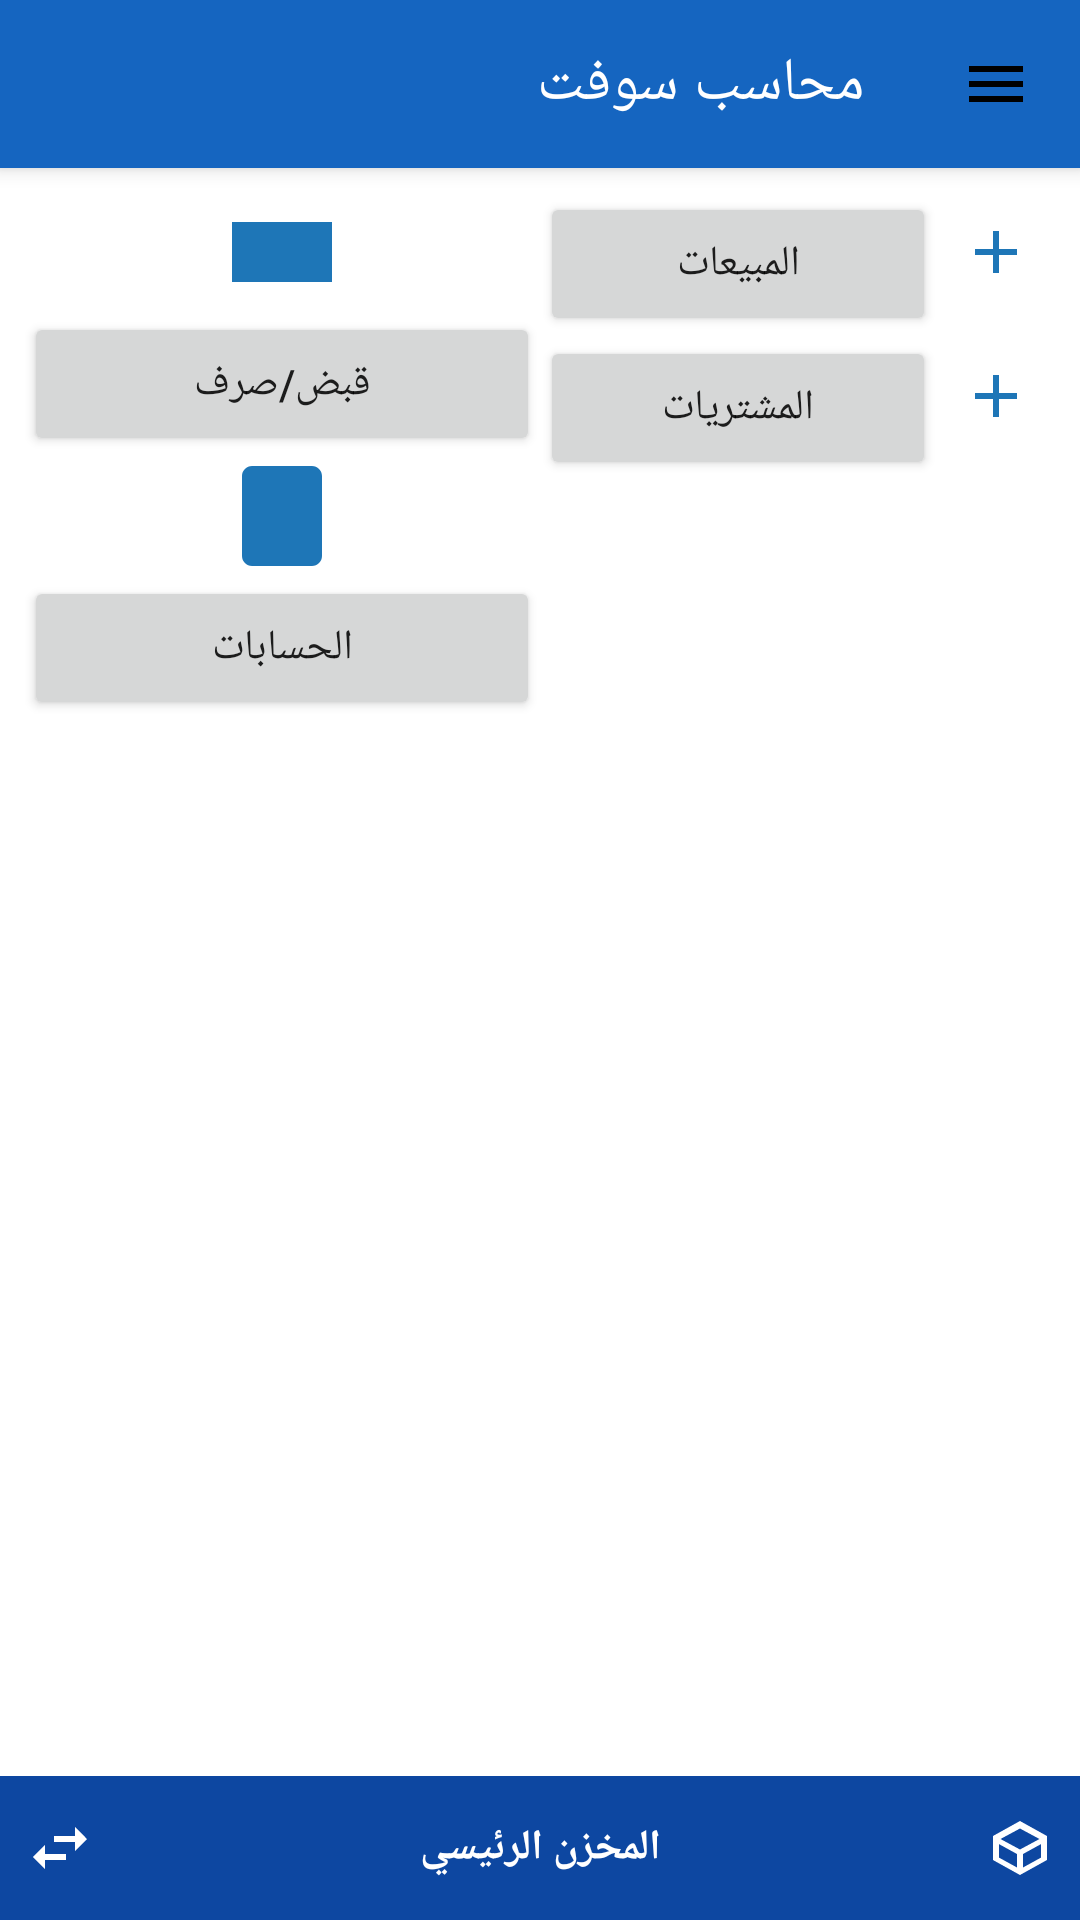

Screen size 1080px x 1920px. Icon name, then its box in pixels as detection(x1, y1, x2, y2):
إضافة: detection(975, 231, 1017, 273), detection(975, 375, 1017, 417)
إضافة مخزن: detection(993, 1821, 1047, 1875)
